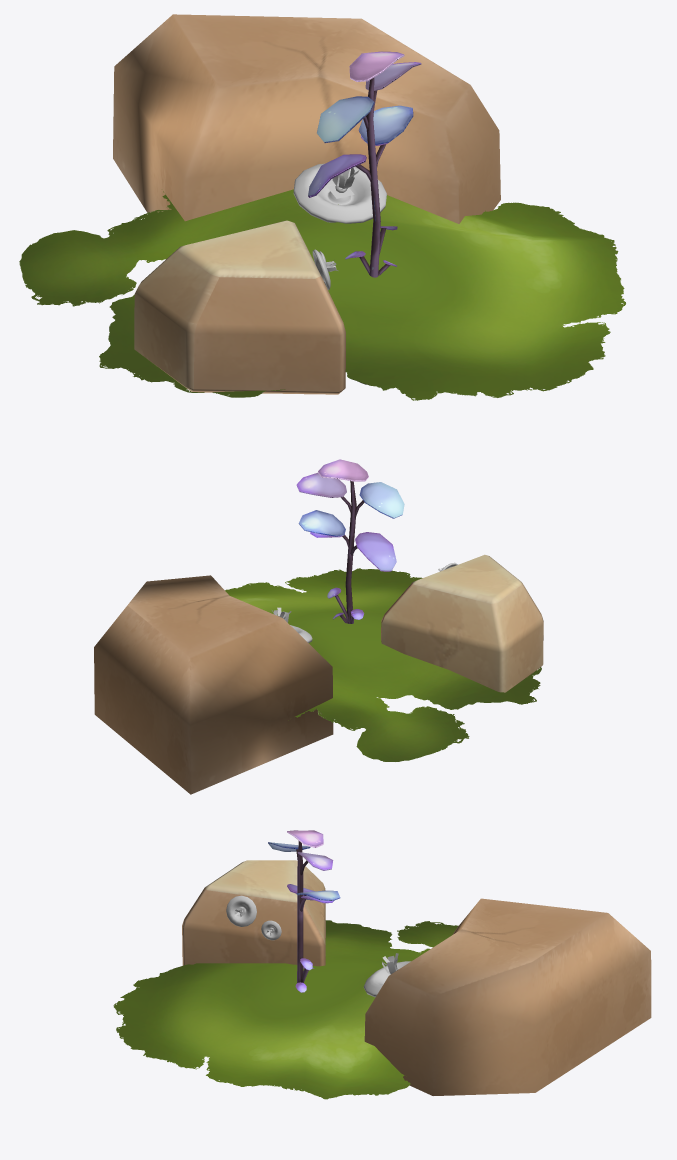
File: Vegetation_Group_2.fbx
3 views of the same model, one above another, from view 1: azimuth 30°, elevation 25°; view 2: azimuth 150°, elevation 25°; view 3: azimuth 270°, elevation 25° (orthographic). The views are drawn at different scales.
Visible parts, largest first — view 1: Moss_Plane, MS_Remains1, MS_Remains2, MS_TallPlant, MS_RoundPlant73; view 2: MS_Remains1, Moss_Plane, MS_Remains2, MS_TallPlant; view 3: MS_Remains1, Moss_Plane, MS_Remains2, MS_TallPlant, MS_RoundPlant1, MS_RoundPlant73.
Part boxes in pixels (x1,y1,x2,y2): Moss_Plane: (19, 189, 625, 400); MS_Remains1: (113, 14, 500, 223); MS_Remains2: (134, 220, 345, 394); MS_TallPlant: (308, 51, 421, 277); MS_RoundPlant73: (293, 163, 386, 223); MS_Remains1: (94, 575, 333, 794); Moss_Plane: (225, 568, 541, 761); MS_Remains2: (381, 554, 543, 692); MS_TallPlant: (296, 459, 404, 623); MS_Remains1: (364, 898, 651, 1095); Moss_Plane: (113, 920, 458, 1099); MS_Remains2: (182, 860, 325, 966); MS_TallPlant: (268, 830, 340, 992); MS_RoundPlant1: (226, 895, 256, 926); MS_RoundPlant73: (363, 953, 410, 997).
Size of the model in its own units: 7.49 by 2.51 by 7.49.
